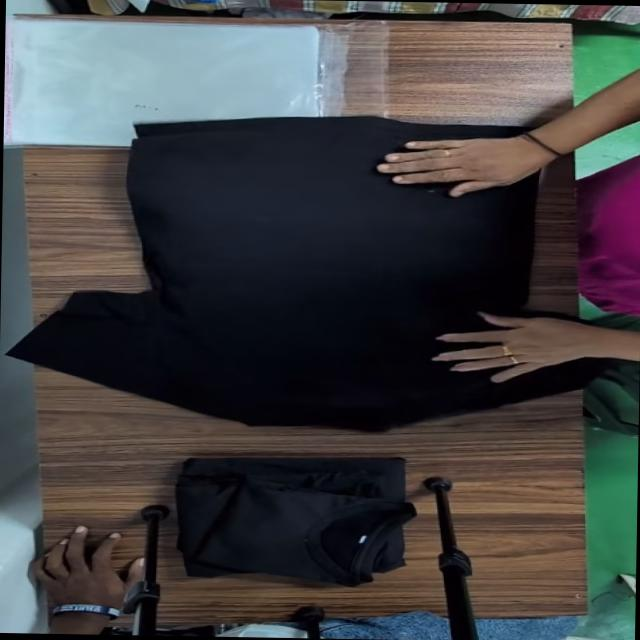new-garment: (10, 116, 595, 430)
